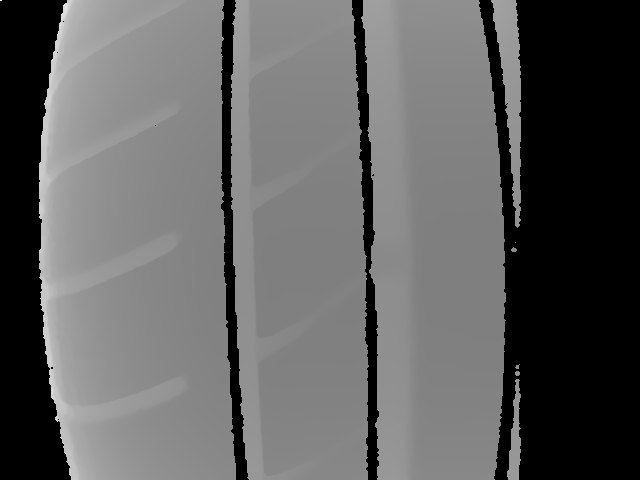high: (255, 221, 270, 237)
low: (237, 221, 249, 237)
